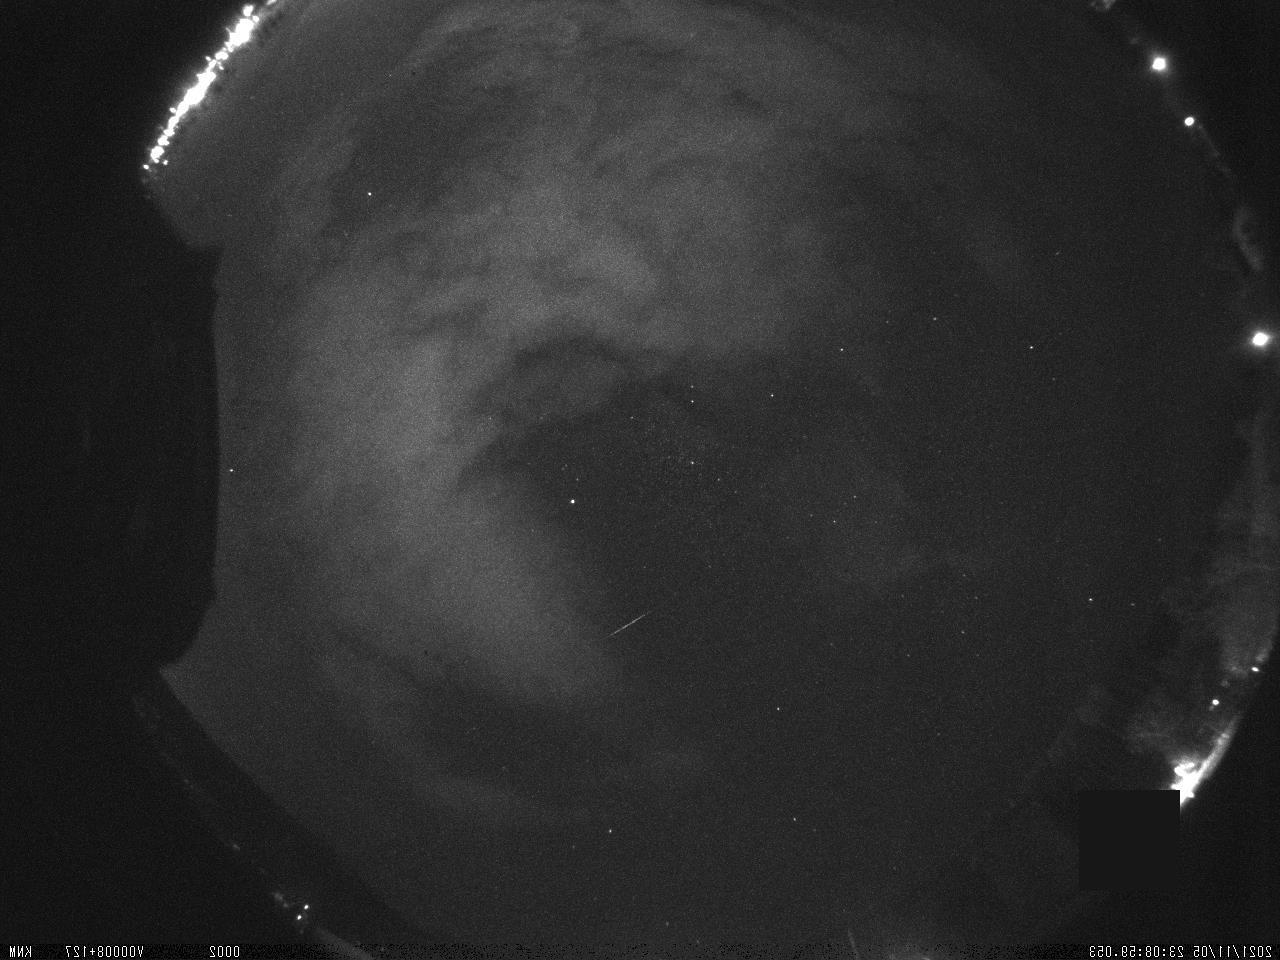meteor: (598, 604, 666, 641)
